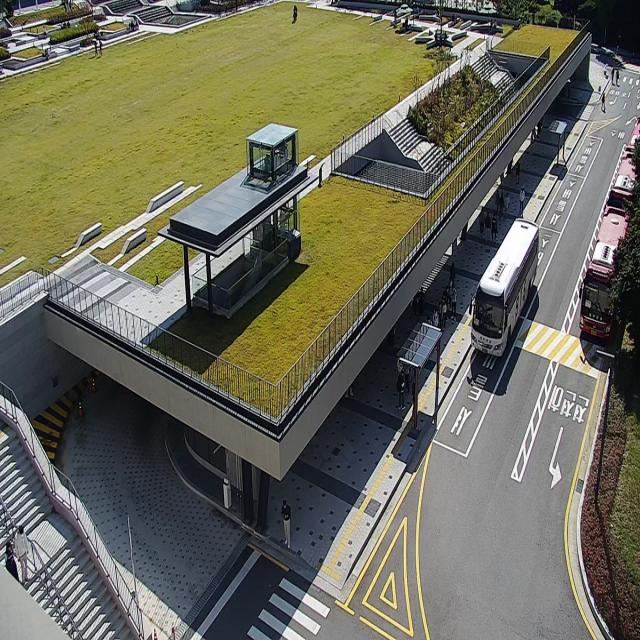queue: (398, 263, 458, 413)
